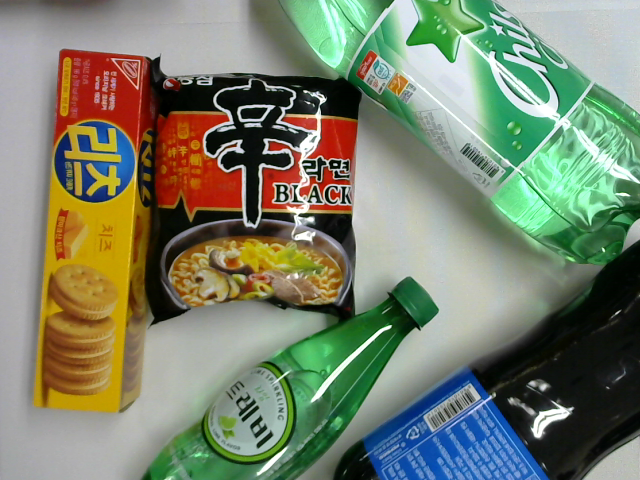Chilseong_Cider_1.5L: (281, 1, 636, 266)
Pepsi_Cola_1.5L: (329, 237, 639, 480)
Ritz_Sand_Cracker: (28, 47, 164, 418)
Sinramen_Black: (142, 55, 366, 332)
Treviraim_500ml: (141, 274, 443, 479)
